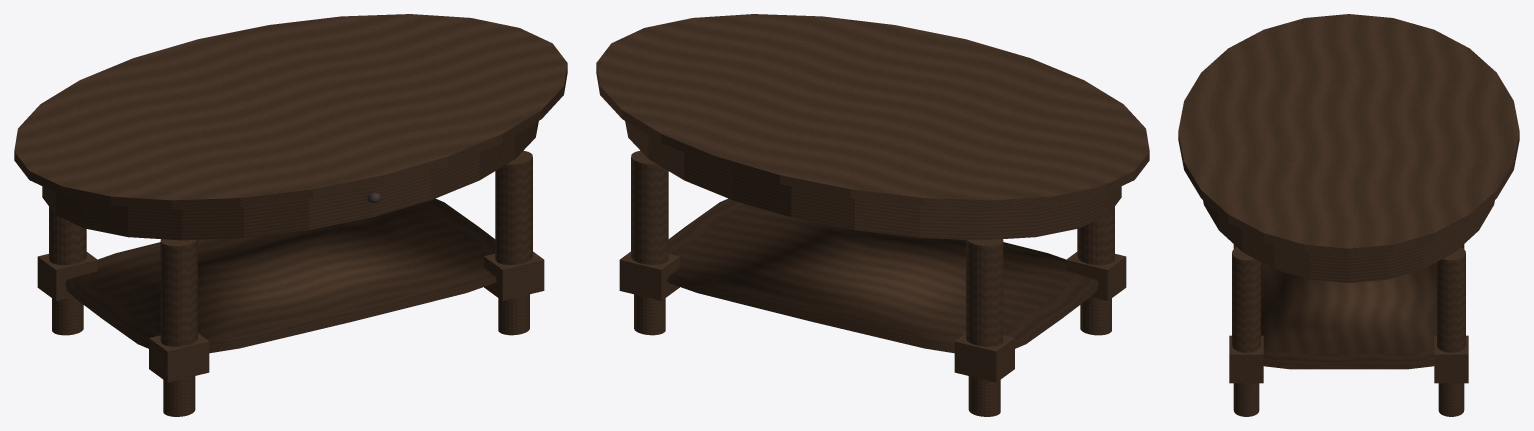
3 renders of one model, left to right at view 1: azimuth 30°, elevation 25°; view 2: azimuth 150°, elevation 25°; view 3: azimuth 270°, elevation 25°, orthographic. The views are drawn at different scales.
Visible parts, largest first — view 1: 1 tabletop, 4 lower_shelf, 2 apron, 5 leg_fl_upper, 8 leg_fr_upper, 6 leg_fl_block, 9 leg_fr_block, 11 leg_bl_upper, 12 leg_bl_block, 7 leg_fl_foot, 10 leg_fr_foot, 13 leg_bl_foot; view 2: 1 tabletop, 4 lower_shelf, 2 apron, 11 leg_bl_upper, 14 leg_br_upper, 12 leg_bl_block, 15 leg_br_block, 5 leg_fl_upper, 6 leg_fl_block, 13 leg_bl_foot, 16 leg_br_foot, 7 leg_fl_foot; view 3: 1 tabletop, 4 lower_shelf, 2 apron, 8 leg_fr_upper, 14 leg_br_upper, 9 leg_fr_block, 15 leg_br_block, 10 leg_fr_foot, 16 leg_br_foot.
Boxes of the visible parts, <box> form: 1 tabletop: <box>14,14,567,209</box>; 4 lower_shelf: <box>65,198,496,353</box>; 2 apron: <box>42,121,538,240</box>; 5 leg_fl_upper: <box>160,239,197,346</box>; 8 leg_fr_upper: <box>495,150,532,264</box>; 6 leg_fl_block: <box>149,333,209,382</box>; 9 leg_fr_block: <box>484,251,544,300</box>; 11 leg_bl_upper: <box>49,207,86,265</box>; 12 leg_bl_block: <box>37,252,97,300</box>; 7 leg_fl_foot: <box>163,376,195,416</box>; 10 leg_fr_foot: <box>498,294,529,335</box>; 13 leg_bl_foot: <box>52,297,83,335</box>; 1 tabletop: <box>596,14,1149,209</box>; 4 lower_shelf: <box>667,198,1098,353</box>; 2 apron: <box>625,121,1121,240</box>; 11 leg_bl_upper: <box>966,239,1003,346</box>; 14 leg_br_upper: <box>631,150,668,264</box>; 12 leg_bl_block: <box>954,333,1014,382</box>; 15 leg_br_block: <box>619,251,679,300</box>; 5 leg_fl_upper: <box>1077,207,1114,265</box>; 6 leg_fl_block: <box>1066,252,1126,300</box>; 13 leg_bl_foot: <box>968,376,1000,416</box>; 16 leg_br_foot: <box>634,294,665,335</box>; 7 leg_fl_foot: <box>1080,297,1111,335</box>; 1 tabletop: <box>1178,14,1519,256</box>; 4 lower_shelf: <box>1234,245,1463,369</box>; 2 apron: <box>1203,200,1494,283</box>; 8 leg_fr_upper: <box>1232,247,1260,352</box>; 14 leg_br_upper: <box>1437,247,1465,352</box>; 9 leg_fr_block: <box>1229,335,1263,383</box>; 15 leg_br_block: <box>1434,335,1468,383</box>; 10 leg_fr_foot: <box>1233,383,1259,416</box>; 16 leg_br_foot: <box>1438,383,1464,416</box>.
Bounding box in the file's own units: 1.14 × 0.4623 × 0.701.
Materials: 2 (1 with a texture image).
